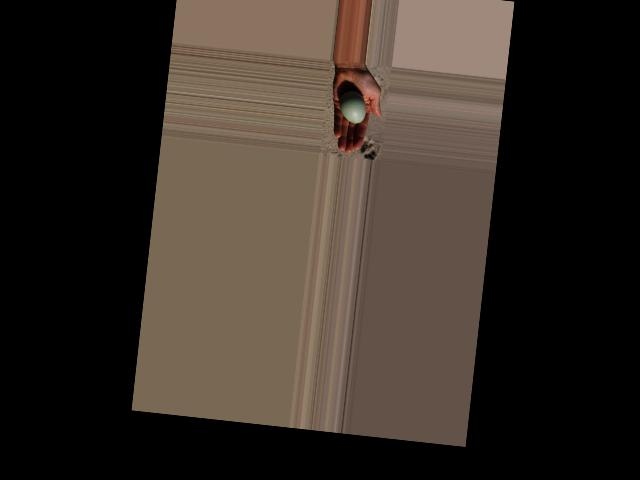egg: (337, 90, 367, 124)
